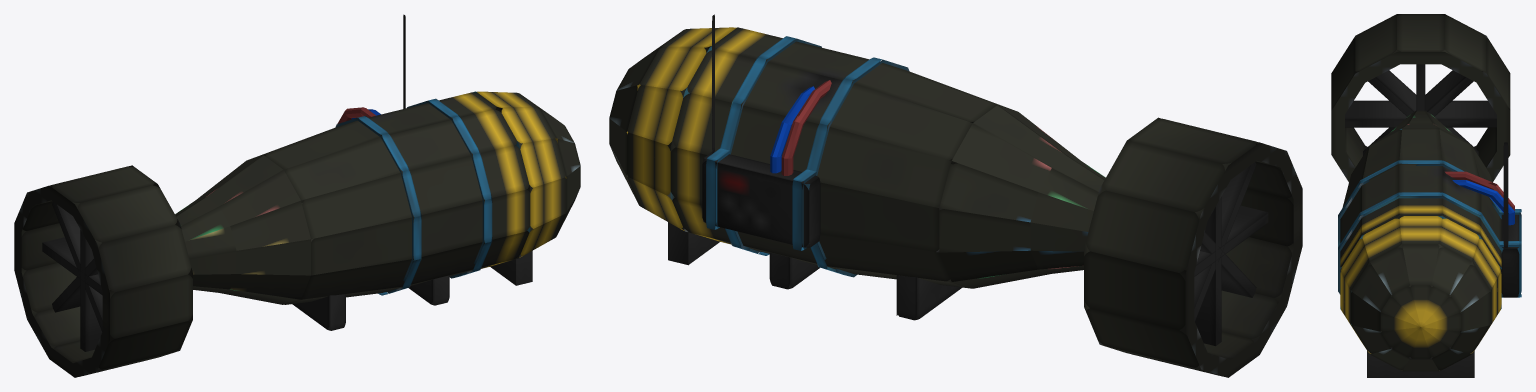
Rendered from aviabomb_mine.obj.
The picture shows the model from 3 angles, left to right: view 1: azimuth 30°, elevation 25°; view 2: azimuth 150°, elevation 25°; view 3: azimuth 270°, elevation 25°; orthographic projection. The views are drawn at different scales.
Parts seen in each view (by area): view 1: 1; view 2: 1; view 3: 1.
Boxes of the visible parts, x1,y1,x2,y2 form: 1: (14, 14, 580, 377); 1: (609, 14, 1302, 377); 1: (1331, 14, 1521, 377).
Size of the model in its own units: 3.06 by 1.3 by 1.06.
